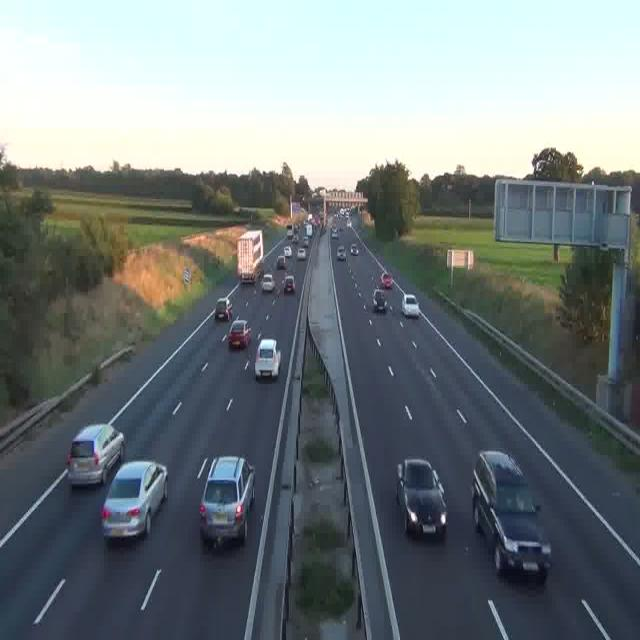car: (472, 450, 550, 581), (102, 462, 168, 540), (200, 456, 256, 547), (396, 458, 446, 541), (66, 425, 126, 486), (256, 338, 280, 380), (228, 318, 252, 348), (401, 294, 421, 318), (214, 297, 232, 320), (372, 289, 388, 312), (282, 274, 295, 293), (381, 273, 394, 289), (276, 254, 286, 270), (296, 247, 306, 261), (336, 248, 346, 261), (351, 244, 359, 256), (332, 228, 339, 240), (287, 226, 294, 237)
truck: (237, 228, 265, 282)
